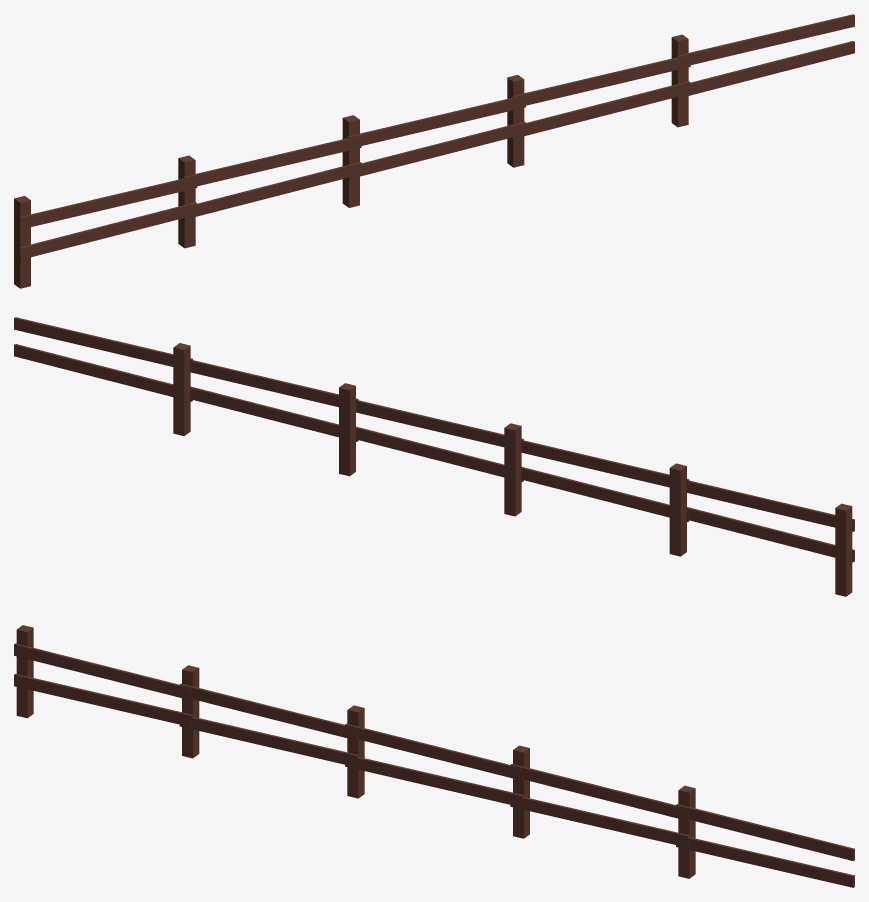
The model's file is Farmi_Aita_TwoBoard.fbx.
The picture shows the model from 3 angles, top to bottom: view 1: azimuth 30°, elevation 25°; view 2: azimuth 150°, elevation 25°; view 3: azimuth 330°, elevation 25°; orthographic projection.
Parts seen in each view (by area): view 1: Fence_TwoBoard.001; view 2: Fence_TwoBoard.001; view 3: Fence_TwoBoard.001.
Part boxes in pixels (x1,y1,x2,y2): Fence_TwoBoard.001: [14, 14, 854, 288]; Fence_TwoBoard.001: [14, 317, 854, 596]; Fence_TwoBoard.001: [14, 625, 854, 887].
Bounding box in the file's own units: 1020 × 100 × 18.07.
